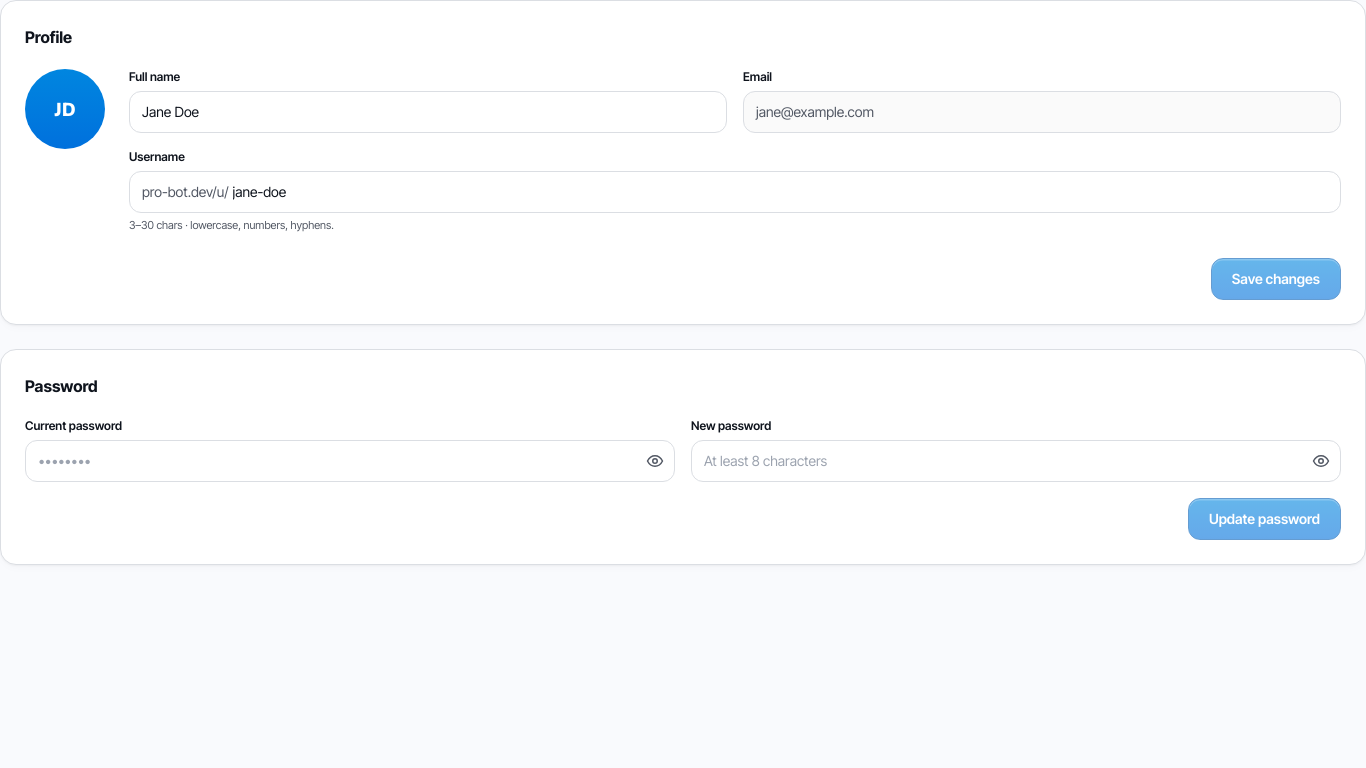
Scenario: AccountTab › POSTs a password change and confirms success
The image size is (1366, 768).
In the password field labelled "Current password": (350,460) [26,440,674,480], type "old-password"
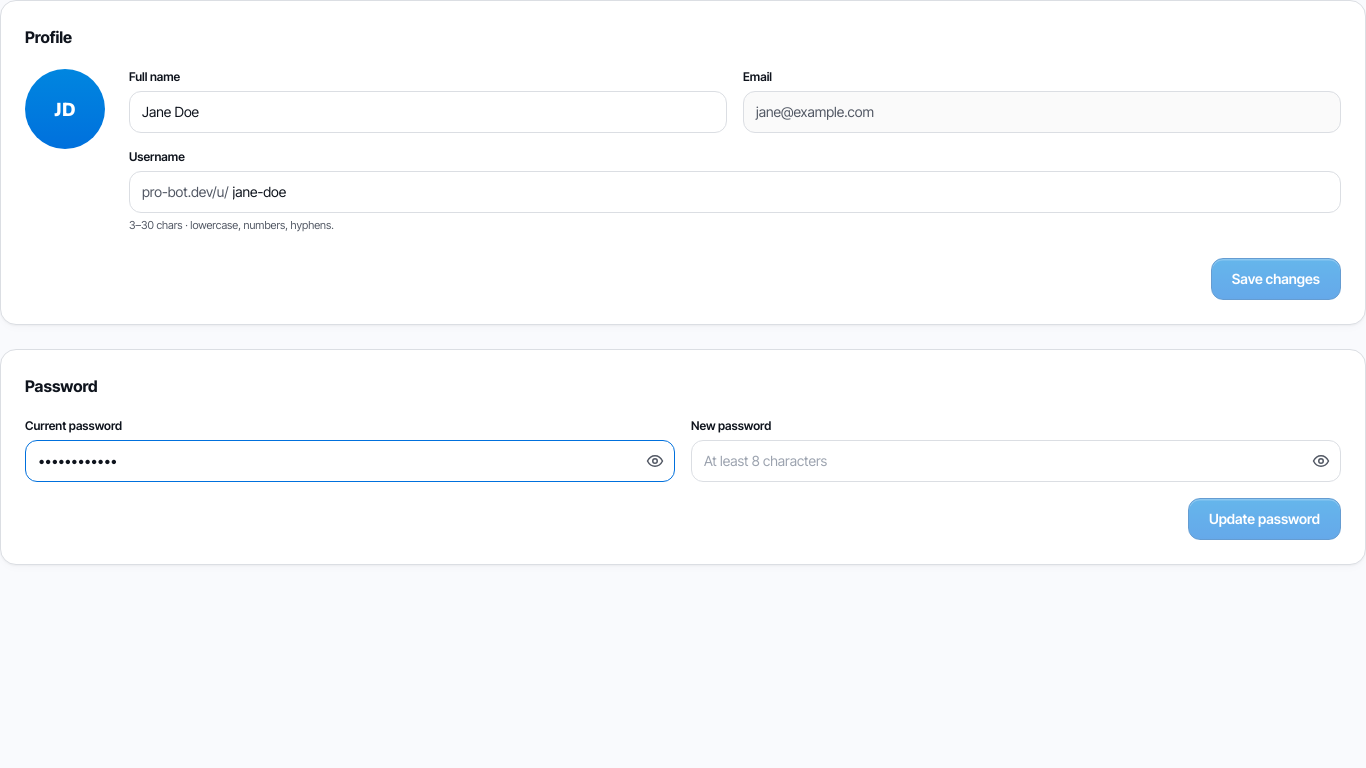
In the password field labelled "New password": (1016,460) [692,440,1340,480], type "newpassword1"
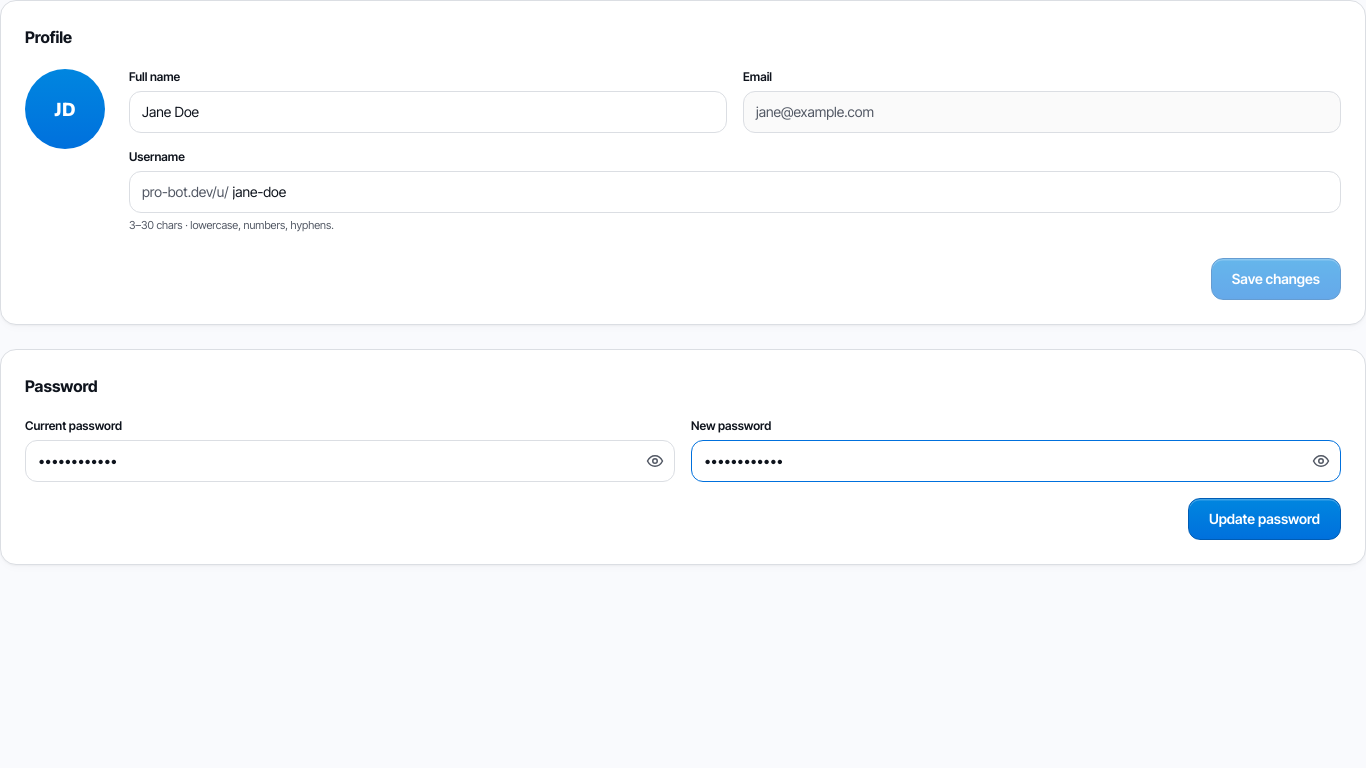
Click the button "Update password": (1264,518) [1188,498,1341,540]
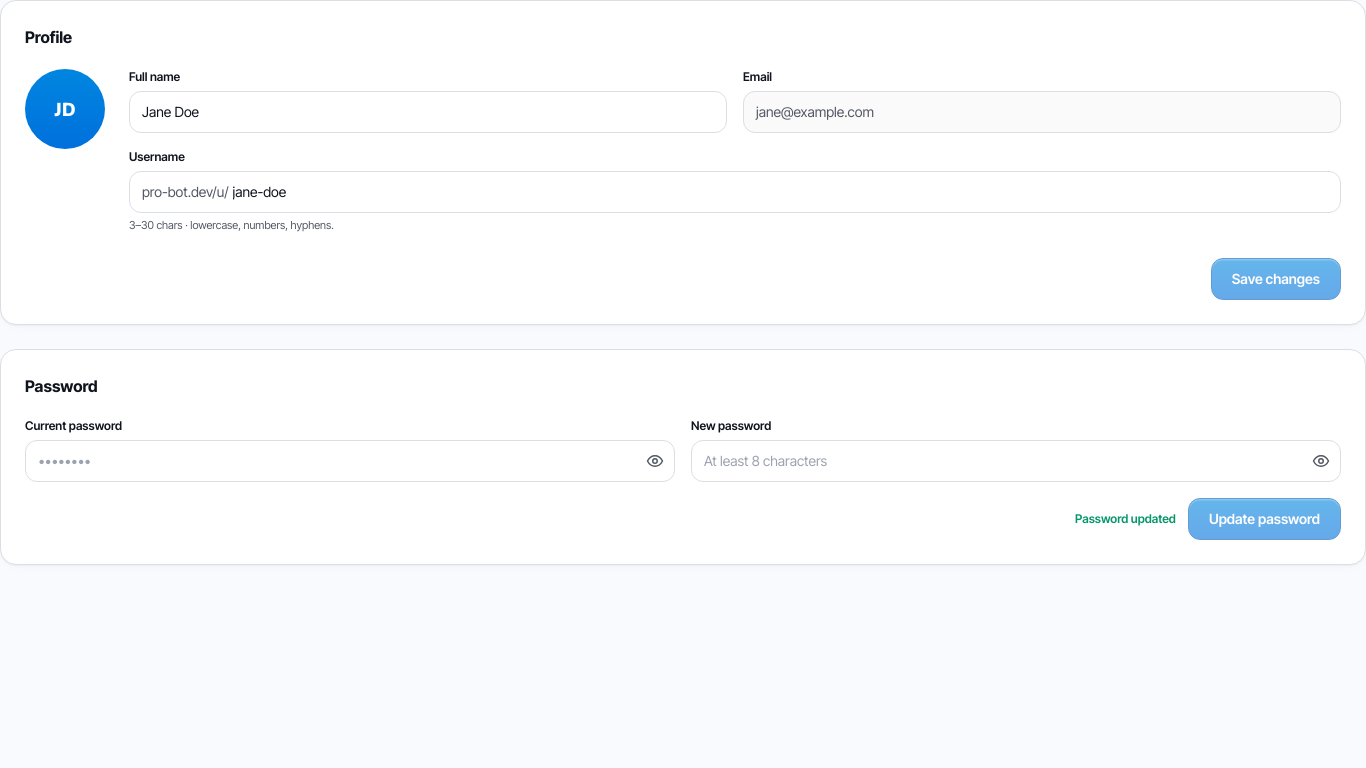
Expected: the text "Password updated" is shown, [1075,510,1176,526]
